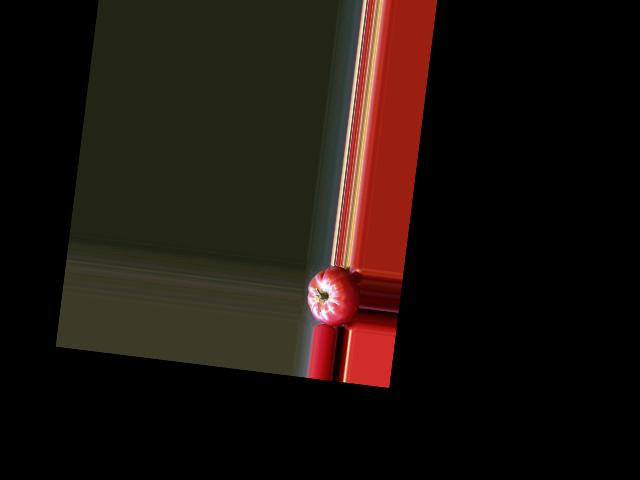tomato: (304, 262, 364, 328)
